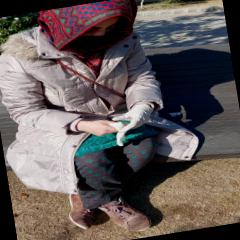gloved: (110, 101, 159, 134)
not-gloved: (76, 116, 122, 140)
